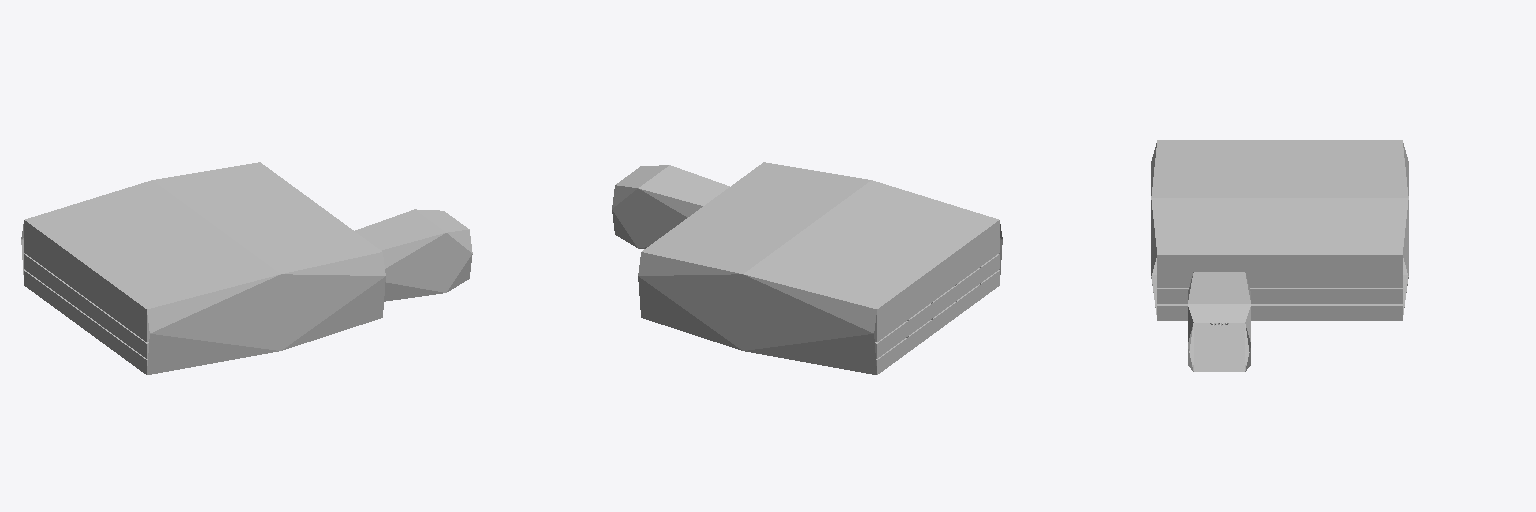
The model's file is RoomL1.obj.
3 views of the same model, side by side, from view 1: azimuth 30°, elevation 25°; view 2: azimuth 150°, elevation 25°; view 3: azimuth 270°, elevation 25° (orthographic).
Parts seen in each view (by area): view 1: Cube.008_Cube.131; view 2: Cube.008_Cube.131; view 3: Cube.008_Cube.131.
Boxes of the visible parts, <box> form: Cube.008_Cube.131: <box>21,162,472,374</box>; Cube.008_Cube.131: <box>612,162,1002,374</box>; Cube.008_Cube.131: <box>1151,140,1408,371</box>.
Bounding box in the file's own units: 65 × 14 × 42.5.